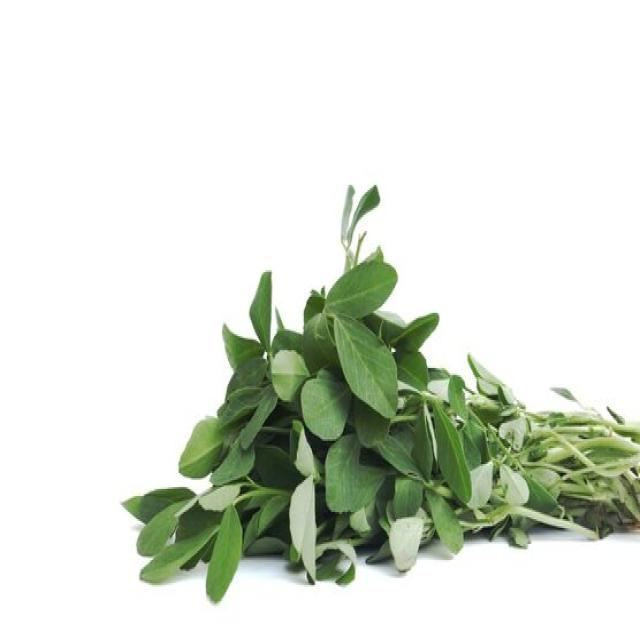Fenugreek: (120, 182, 639, 604)
